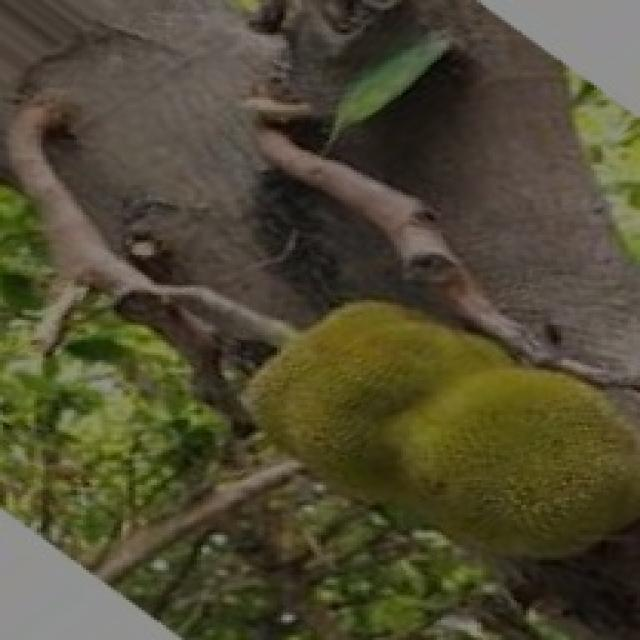Fruit: (218, 260, 640, 585)
